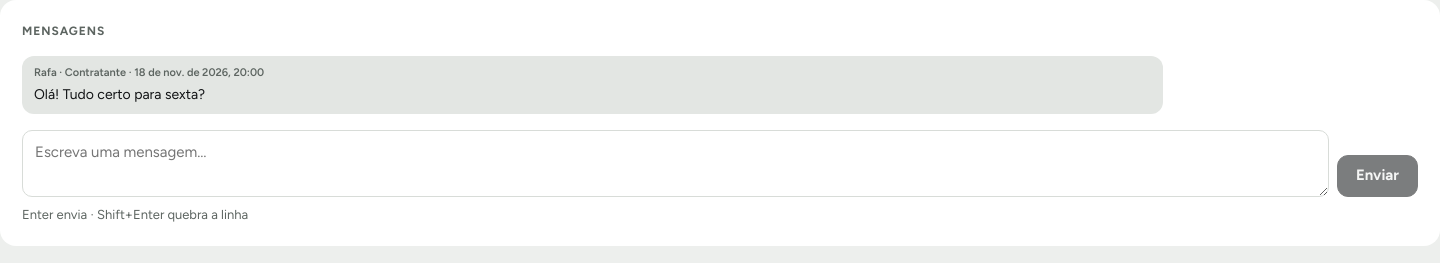
Test: conversa da negociação › desktop: conversa na coluna; Enter envia e Shift+Enter não envia
The width and height of the screenshot is (1440, 263).
Type "Tudo certo!" into the text box named "Nova mensagem".
click(675, 163); type("Tudo certo!")  # box top-left (22, 130), bottom-right (1329, 196)
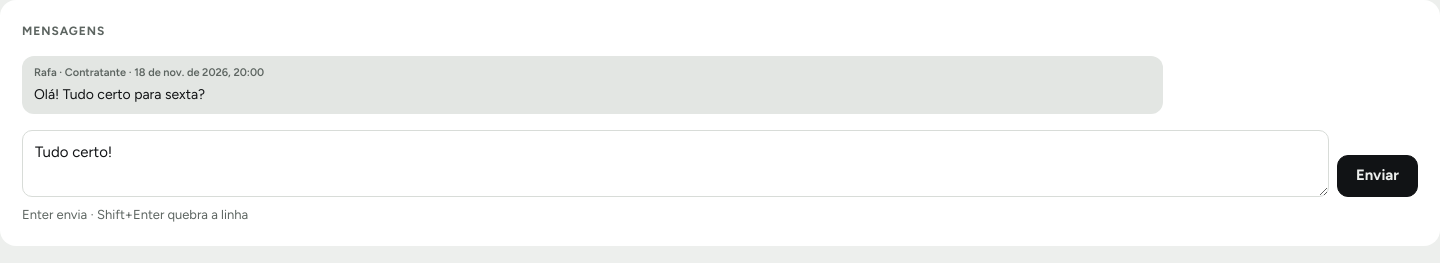
Press Enter in the text box named "Nova mensagem", box top-left (22, 130), bottom-right (1329, 196)
Press Enter in the text box named "Nova mensagem", box top-left (22, 130), bottom-right (1329, 196)
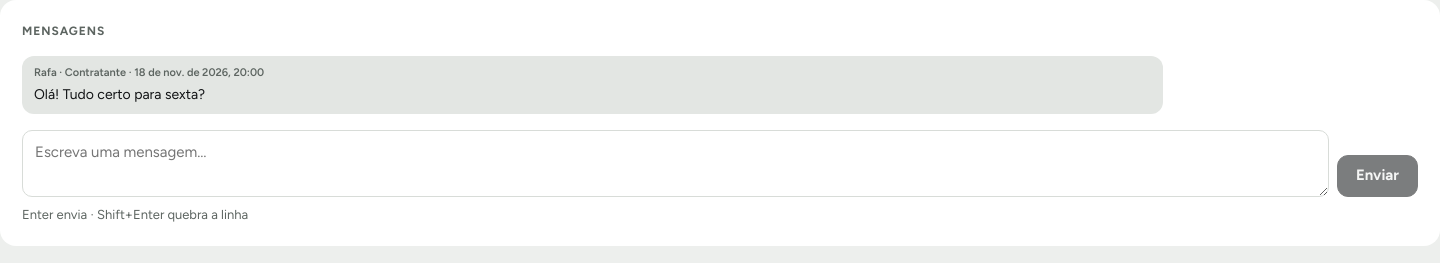
Result: the text box named "Nova mensagem" is empty at top-left (22, 130), bottom-right (1329, 196)
